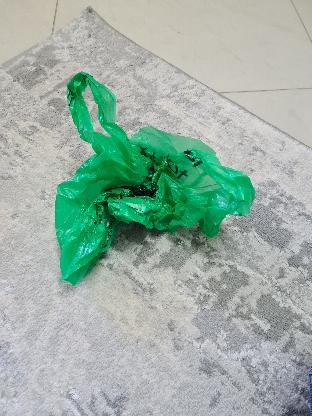Plastic Bag: (58, 72, 254, 280)
